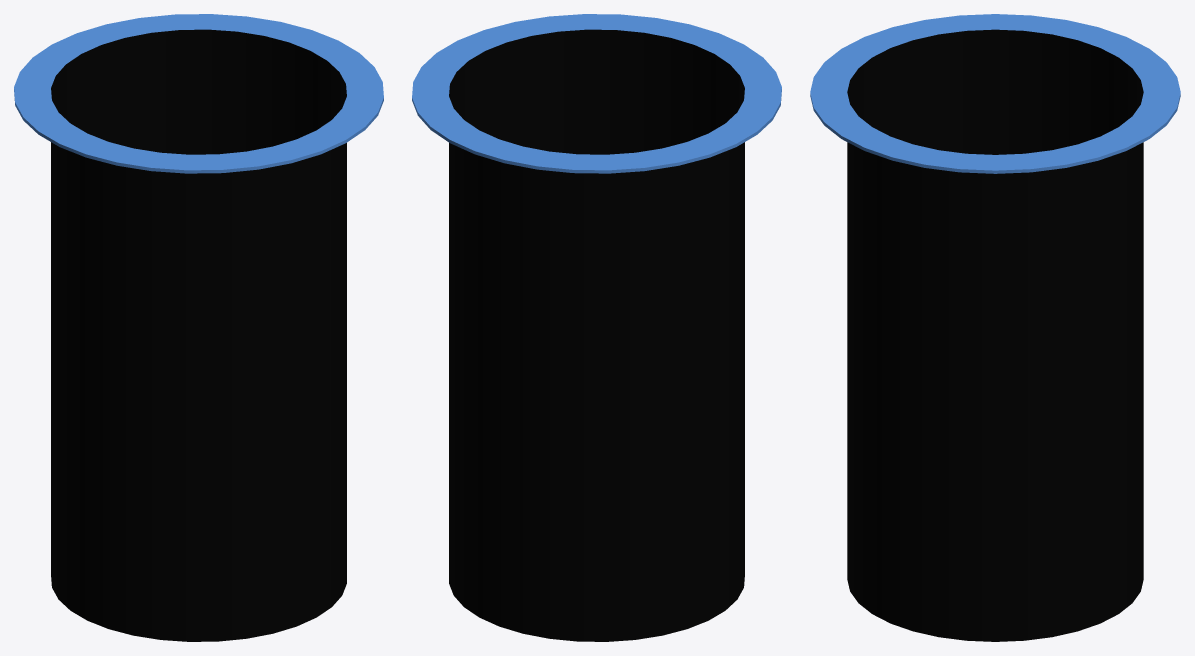
Rendered from Hole.fbx.
The picture shows the model from 3 angles, left to right: view 1: azimuth 30°, elevation 25°; view 2: azimuth 150°, elevation 25°; view 3: azimuth 270°, elevation 25°; orthographic projection.
Parts seen in each view (by area): view 1: Hole; view 2: Hole; view 3: Hole.
Part boxes in pixels (x1=…): Hole: x1=14, y1=14, x2=383, y2=641; Hole: x1=412, y1=14, x2=781, y2=641; Hole: x1=810, y1=14, x2=1180, y2=641.
Size of the model in its own units: 200 by 290 by 200.
